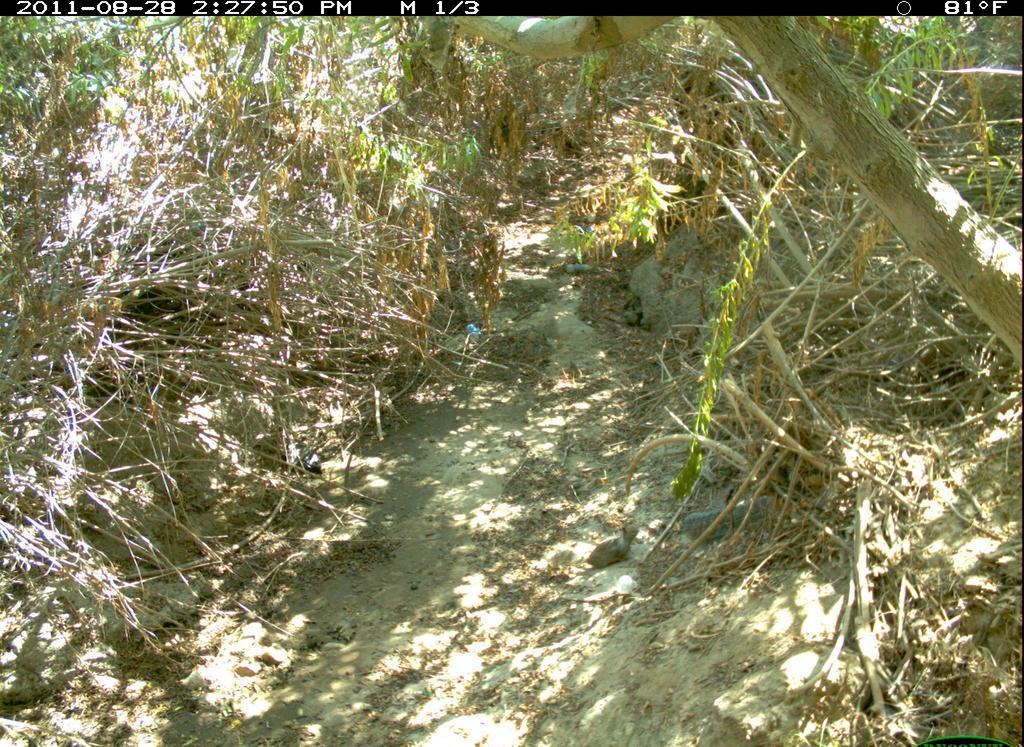squirrel: (573, 518, 651, 587)
